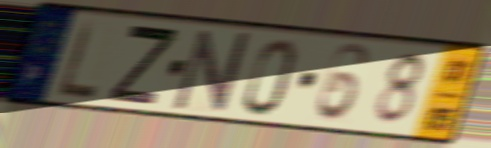0: (241, 36, 302, 118)
6: (312, 41, 372, 127)
8: (370, 50, 426, 128)
L: (55, 16, 101, 101)
N: (171, 28, 254, 114)
Z: (105, 21, 182, 108)
